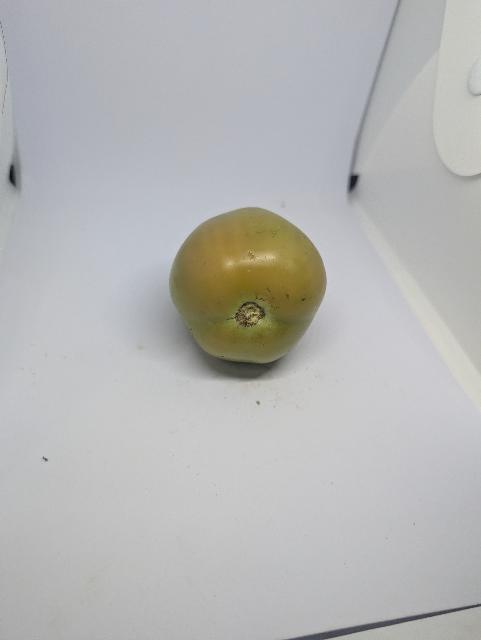breaker: (167, 206, 332, 372)
